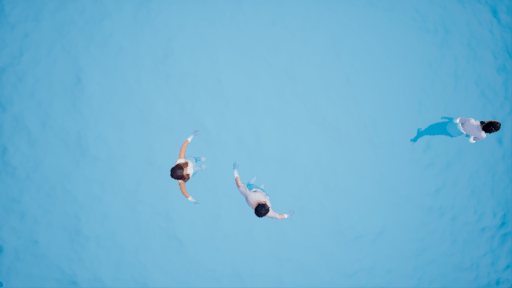person: (230, 164, 294, 221), (404, 112, 505, 145), (173, 128, 210, 203)
